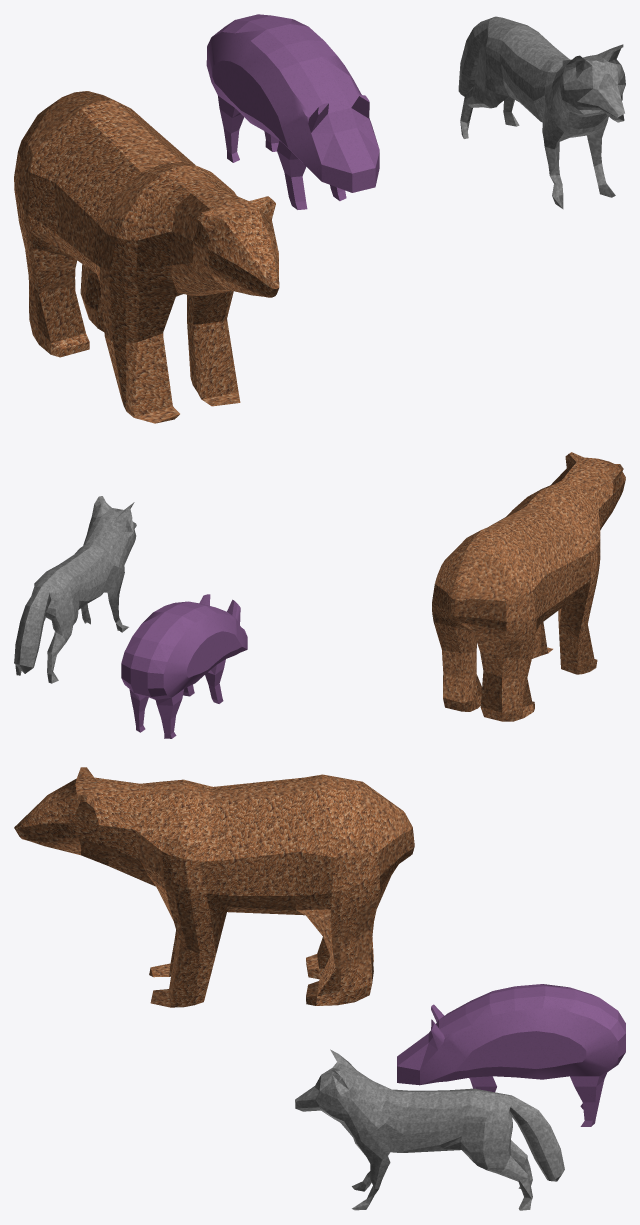
File: Animals.obj
The picture shows the model from 3 angles, top to bottom: view 1: azimuth 30°, elevation 25°; view 2: azimuth 150°, elevation 25°; view 3: azimuth 270°, elevation 25°; orthographic projection. The views are drawn at different scales.
Parts seen in each view (by area): view 1: Bear1, Pig1, Fox1; view 2: Bear1, Pig1, Fox1; view 3: Bear1, Pig1, Fox1.
Part boxes in pixels (x1,y1,x2,y2): Bear1: [14, 91, 279, 423]; Pig1: [206, 14, 379, 209]; Fox1: [458, 16, 625, 209]; Bear1: [432, 452, 625, 721]; Pig1: [121, 594, 247, 738]; Fox1: [14, 496, 136, 683]; Bear1: [14, 767, 414, 1007]; Pig1: [397, 984, 625, 1126]; Fox1: [295, 1049, 564, 1210].
Bounding box in the file's own units: 4 × 1.53 × 4.07.
3 materials, 3 textured.
